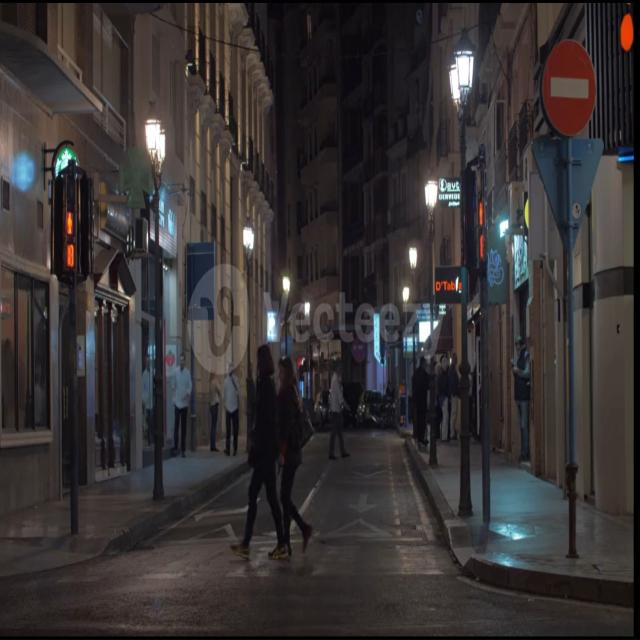pedestrian: (232, 344, 311, 558)
